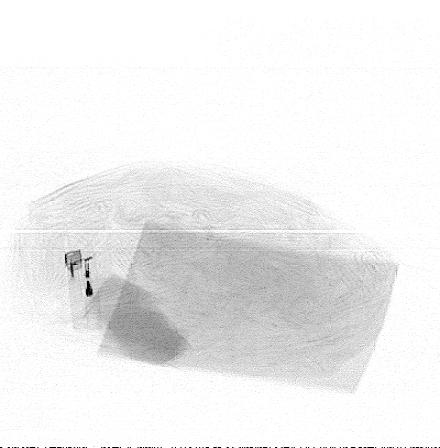Lighter: (64, 248, 103, 330)
